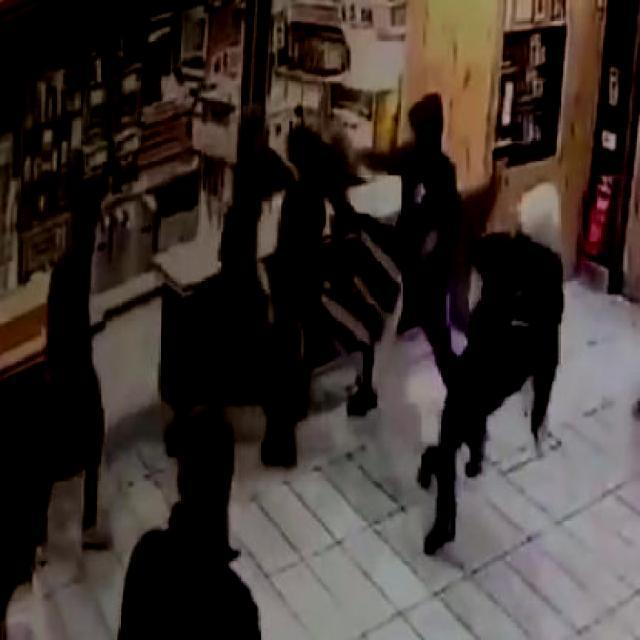fight: (280, 91, 448, 402)
